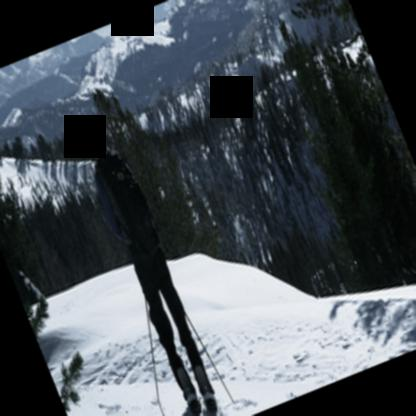backpack: (97, 149, 157, 254)
